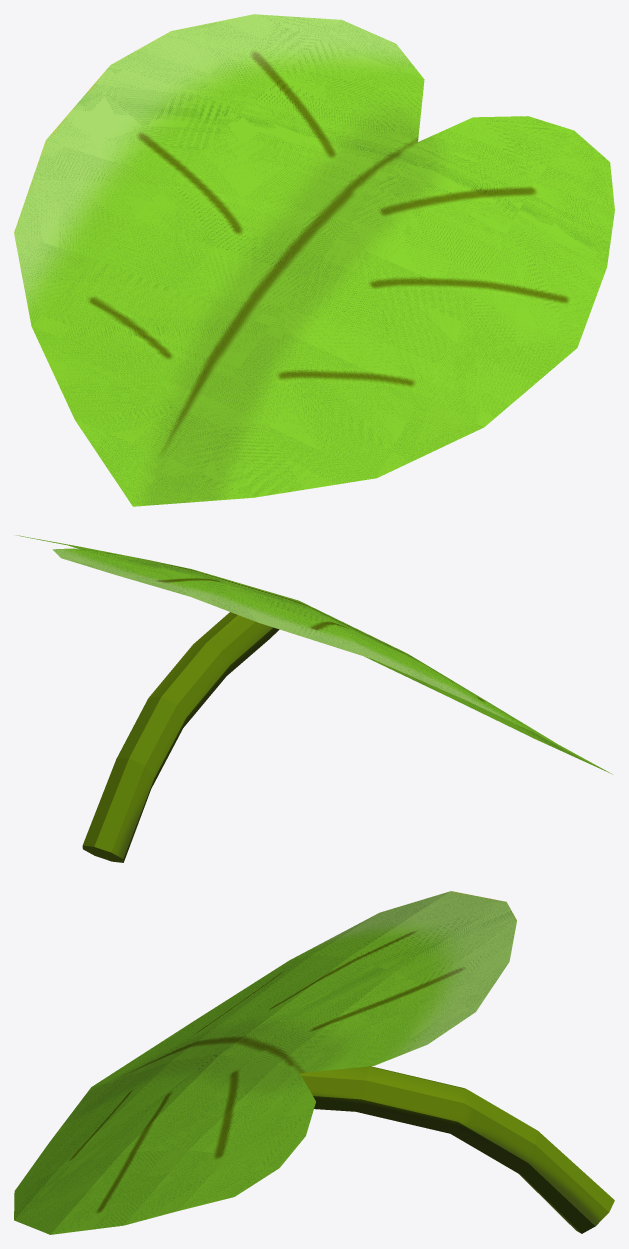
The model's file is Leaf.fbx.
The picture shows the model from 3 angles, top to bottom: view 1: azimuth 30°, elevation 25°; view 2: azimuth 150°, elevation 25°; view 3: azimuth 270°, elevation 25°; orthographic projection. The views are drawn at different scales.
Parts seen in each view (by area): view 1: Leaf; view 2: Leaf; view 3: Leaf.
Boxes of the visible parts, x1,y1,x2,y2 form: Leaf: [14, 14, 614, 506]; Leaf: [16, 535, 612, 862]; Leaf: [14, 891, 614, 1234].
Bounding box in the file's own units: 0.4516 × 0.2125 × 0.3963.
